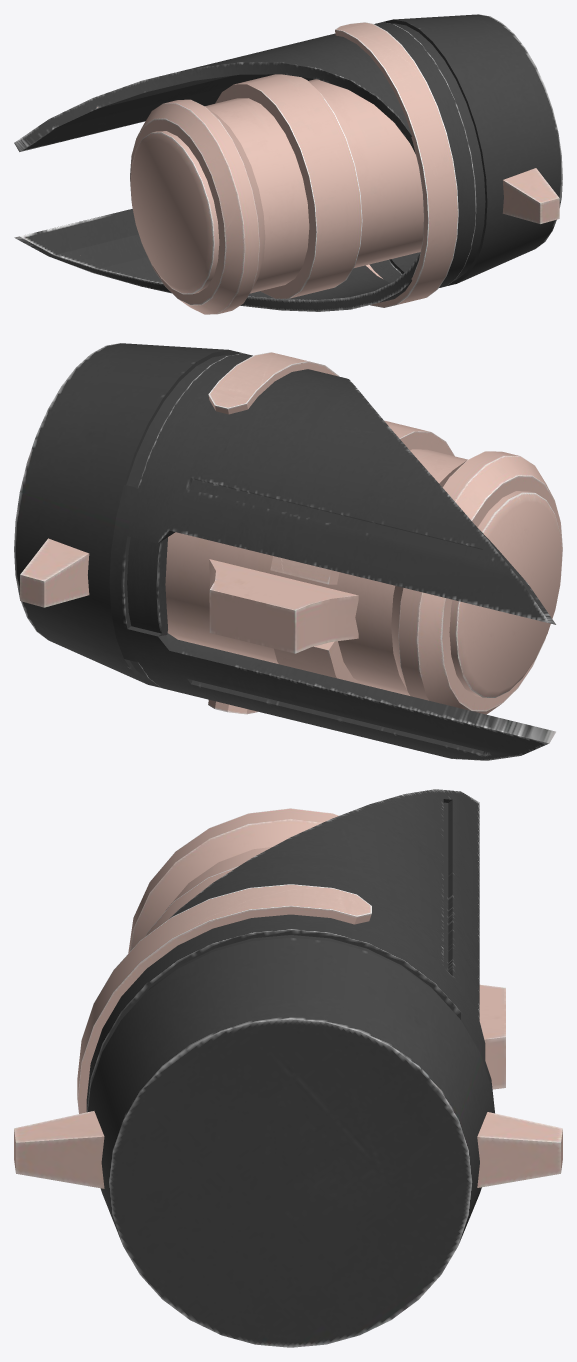
The model's file is pommel_18_r_c.glb.
The picture shows the model from 3 angles, top to bottom: view 1: azimuth 30°, elevation 25°; view 2: azimuth 150°, elevation 25°; view 3: azimuth 270°, elevation 25°; orthographic projection. The views are drawn at different scales.
Parts seen in each view (by area): view 1: pommel_18_r_c_lod0; view 2: pommel_18_r_c_lod0; view 3: pommel_18_r_c_lod0.
Boxes of the visible parts, x1,y1,x2,y2 form: pommel_18_r_c_lod0: (14,14,562,314); pommel_18_r_c_lod0: (14,343,562,760); pommel_18_r_c_lod0: (14,789,562,1347).
Size of what is drawn, in the model's own units: 0.0636 by 0.037 by 0.0475.
Materials: 1 (1 with a texture image).
